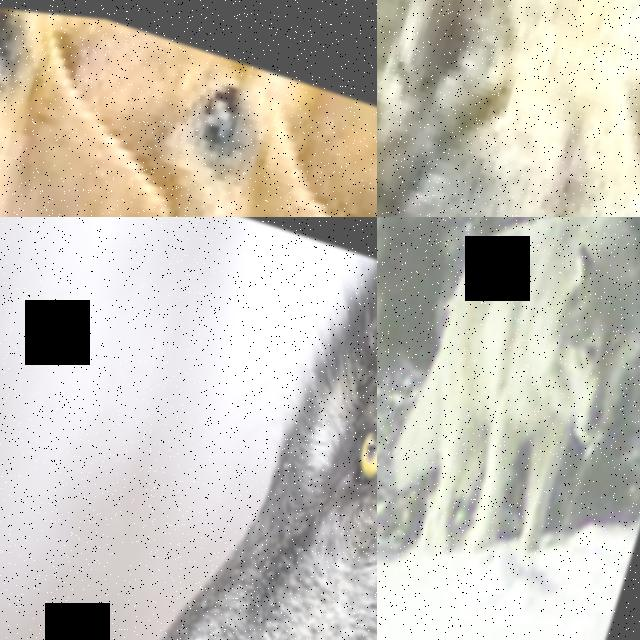dog: (0, 0, 377, 217), (0, 0, 307, 217), (377, 0, 640, 217), (69, 41, 377, 217)
wolf: (24, 217, 377, 640), (377, 217, 640, 640), (377, 217, 493, 640)
